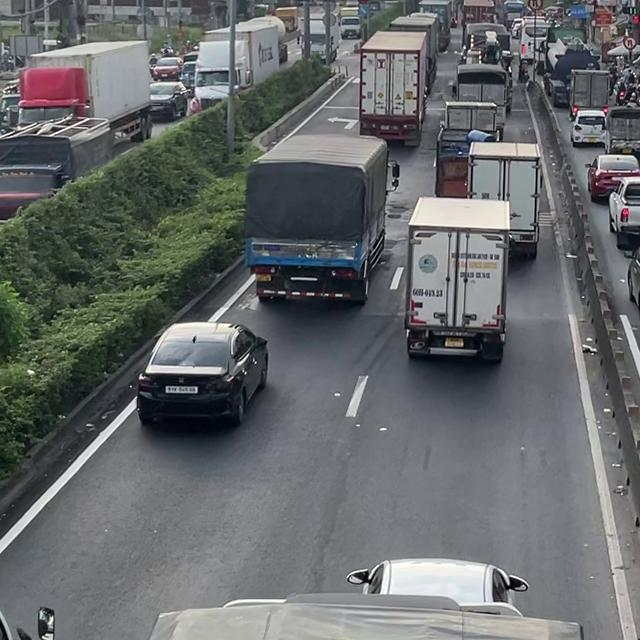bus: (519, 22, 552, 62)
car: (135, 321, 269, 428), (346, 556, 529, 617), (586, 153, 639, 201), (608, 176, 639, 249), (148, 81, 188, 120), (570, 109, 607, 147), (626, 244, 639, 320), (152, 56, 183, 80)
truck: (243, 132, 399, 304), (141, 589, 583, 639), (403, 195, 510, 363), (18, 39, 153, 142), (0, 115, 113, 220), (466, 141, 541, 259), (189, 25, 281, 115), (358, 29, 428, 146), (432, 125, 503, 198), (544, 26, 600, 107), (388, 12, 439, 95), (451, 63, 513, 116), (442, 100, 505, 141), (568, 68, 612, 121), (461, 29, 515, 65), (602, 105, 639, 155), (417, 0, 452, 51), (461, 0, 496, 26), (338, 6, 362, 38)
